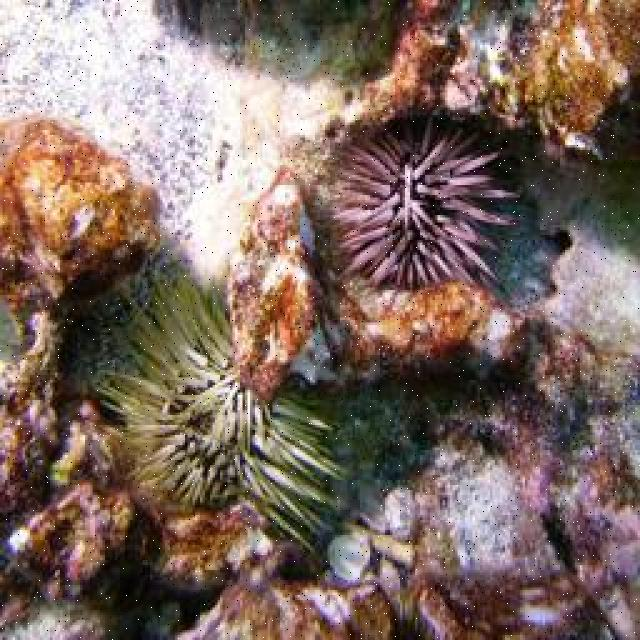reefs: (0, 0, 638, 638), (105, 273, 357, 553), (329, 114, 522, 292)
